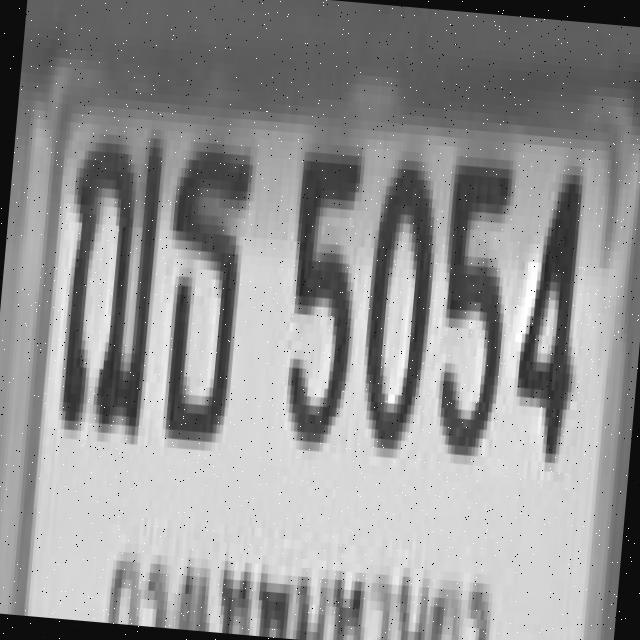0: (353, 148, 439, 450)
21ChorChoe: (54, 122, 164, 436)
33ThorThong: (151, 131, 251, 443)
4: (508, 153, 588, 454)
5: (427, 142, 514, 452), (276, 142, 362, 444)
